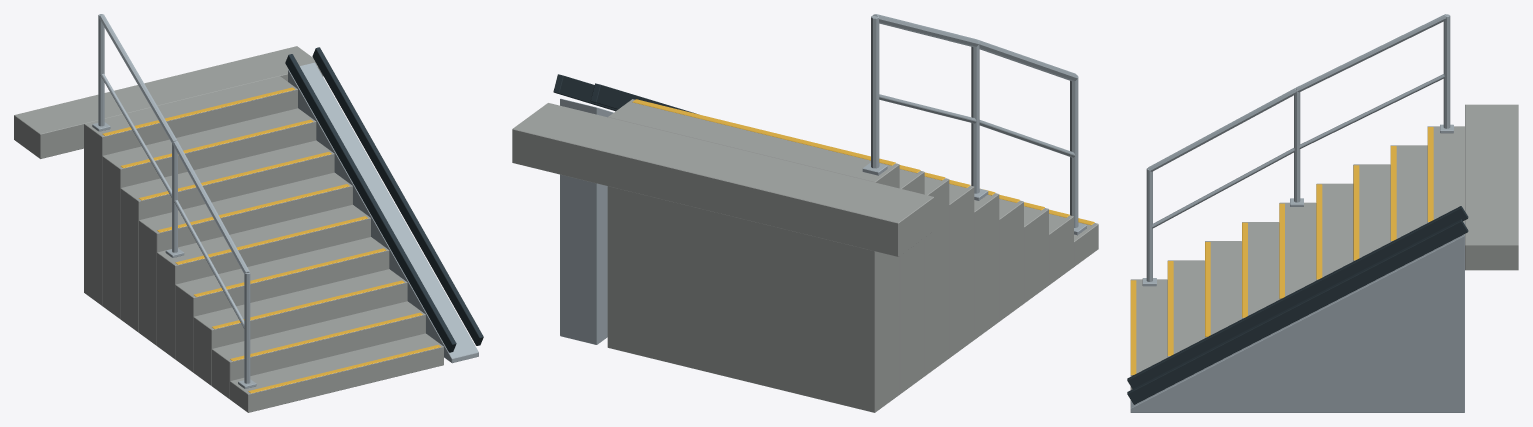
File: b13_city_steps_with_bicycle_gutter.glb
3 renders of one model, left to right at view 1: azimuth 30°, elevation 25°; view 2: azimuth 150°, elevation 25°; view 3: azimuth 270°, elevation 25°, orthographic. The views are drawn at different scales.
Visible parts, largest first — view 1: b13_city_steps_with_bicycle_gutter; view 2: b13_city_steps_with_bicycle_gutter; view 3: b13_city_steps_with_bicycle_gutter.
Part boxes in pixels (x1,y1,x2,y2): b13_city_steps_with_bicycle_gutter: (14,14,483,412); b13_city_steps_with_bicycle_gutter: (512,14,1098,412); b13_city_steps_with_bicycle_gutter: (1127,14,1518,412).
Size of the model in its own units: 2.6 by 2.49 by 3.06.
